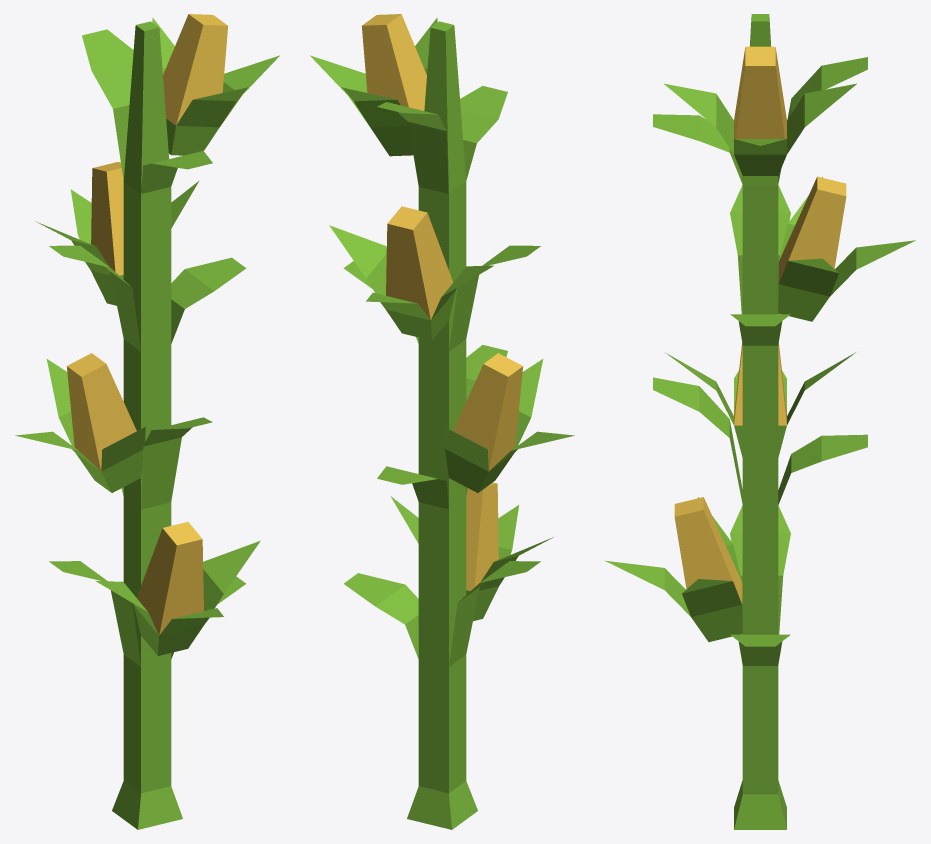
The model's file is corn.glb.
The picture shows the model from 3 angles, left to right: view 1: azimuth 30°, elevation 25°; view 2: azimuth 150°, elevation 25°; view 3: azimuth 270°, elevation 25°; orthographic projection.
Visible parts, largest first — view 1: corn; view 2: corn; view 3: corn.
Boxes of the visible parts, x1=… form: corn: x1=15, y1=14, x2=279, y2=829; corn: x1=310, y1=14, x2=574, y2=829; corn: x1=605, y1=14, x2=915, y2=829.
Size of the model in its own units: 0.3753 by 1.06 by 0.3753.
